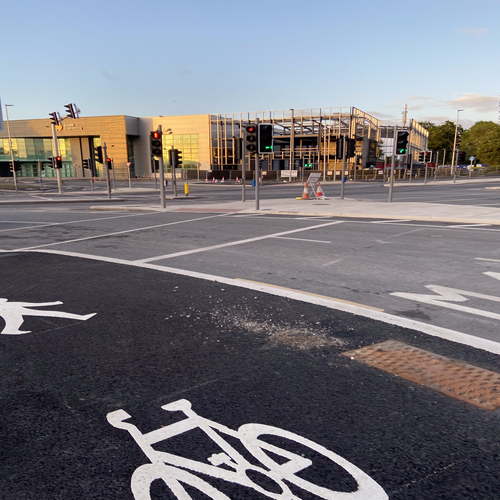Bicycle Crossing: (85, 391, 393, 500)
Traffic Light: (240, 121, 265, 154), (149, 129, 166, 161), (391, 129, 408, 157), (170, 146, 183, 168), (95, 143, 105, 161)
